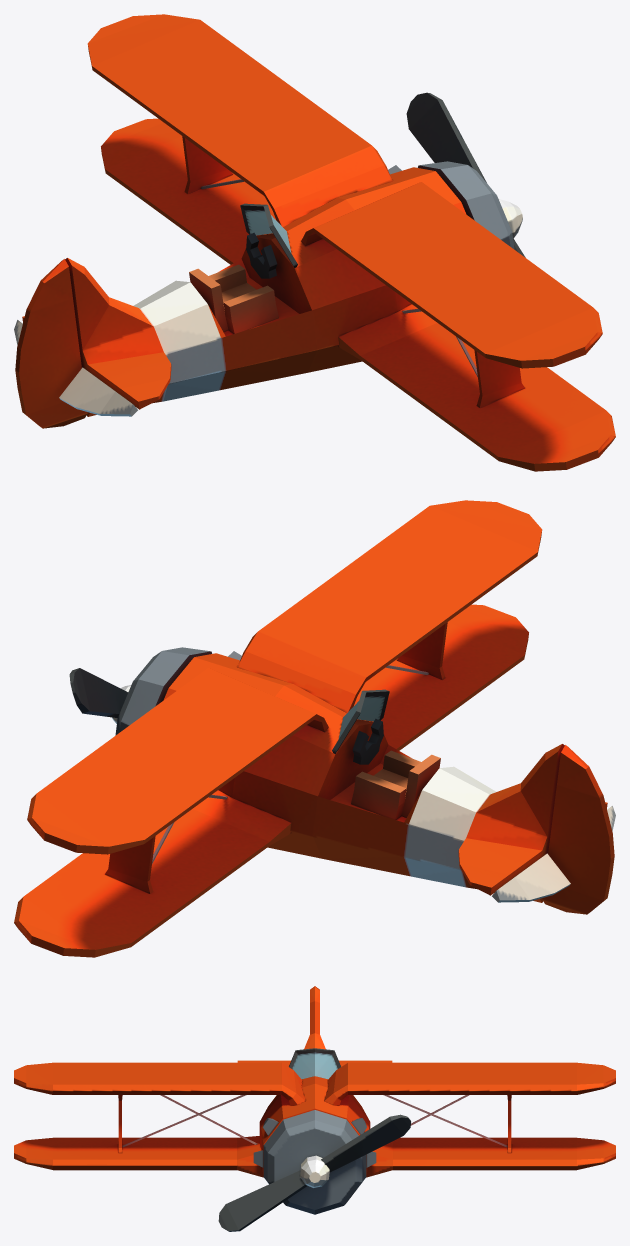
Rendered from airplane_without_wheels.glb.
3 renders of one model, top to bottom at view 1: azimuth 30°, elevation 25°; view 2: azimuth 150°, elevation 25°; view 3: azimuth 270°, elevation 25°, orthographic. The views are drawn at different scales.
Visible parts, largest first — view 1: PUSHILIN_Plane_Circle.000; view 2: PUSHILIN_Plane_Circle.000; view 3: PUSHILIN_Plane_Circle.000.
Boxes of the visible parts, bbox=[...] form: PUSHILIN_Plane_Circle.000: bbox=[14, 14, 615, 471]; PUSHILIN_Plane_Circle.000: bbox=[14, 500, 615, 957]; PUSHILIN_Plane_Circle.000: bbox=[14, 986, 615, 1231].
Size of the model in its own units: 2.42 by 0.8402 by 3.78.
1 material, 1 textured.
